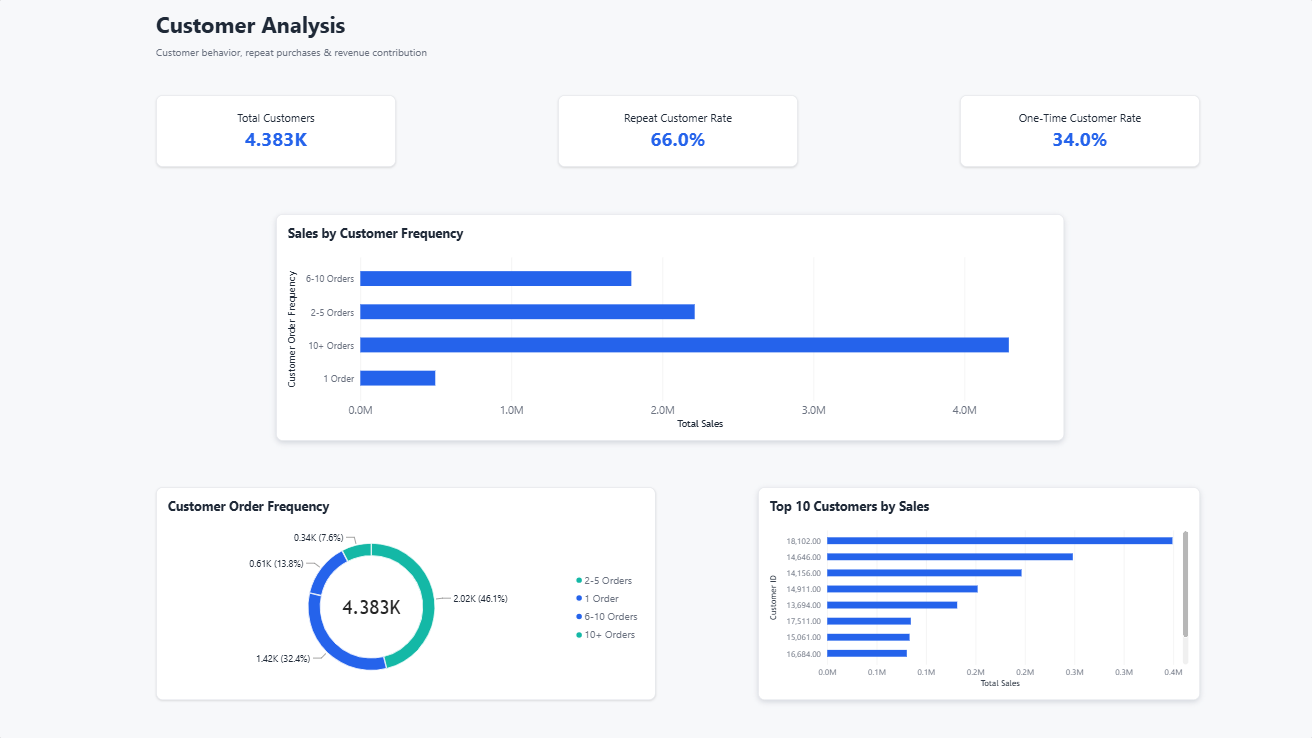

The page's visual inventory and layout, read from the dashboard file:
{"tool":"powerbi","page":{"name":"Customer Analysis","canvas":[1920,1080],"ordinal":1},"visuals":[{"type":"cardVisual","fields":{"Data":["online_retail_cleaned.Total Customers"]},"box":[230.5,140.1,350,105],"z":0},{"type":"cardVisual","fields":{"Data":["online_retail_cleaned.Repeat Customer Rate"]},"box":[817,140.1,350,105],"z":1000},{"type":"cardVisual","fields":{"Data":["online_retail_cleaned.One-Time Customer Rate"]},"box":[1403.5,140.1,350,105],"z":2000},{"type":"clusteredBarChart","title":"Sales by Customer Frequency","fields":{"Category":["online_retail_cleaned.Customer Frequency"],"Y":["online_retail_cleaned.Total Sales"]},"box":[405.6,313.7,1149.7,331.2],"z":3000},{"type":"donutChart","title":"Customer Order Frequency","fields":{"Category":["online_retail_cleaned.Customer Frequency"],"Y":["Count(online_retail_cleaned.Customer_ID)"]},"box":[230.5,712,729.5,310.8],"z":4000},{"type":"clusteredBarChart","title":"Top 10 Customers by Sales","fields":{"Category":["online_retail_cleaned.Customer_ID"],"Y":["online_retail_cleaned.Total Sales"]},"box":[1108.8,712,644.9,310.8],"z":5000},{"type":"textbox","box":[230,15.1,397.9,51.4],"z":7000},{"type":"textbox","box":[230,67.1,397.1,27.1],"z":8000}]}

Visuals, with their boxes in screenshot pixels (x1, y1, x2, y2), scaled from the page's 1920x1080 canvas onto the 1312x738 screenshot:
cardVisual - online_retail_cleaned.Total Customers: (158, 96, 397, 167)
cardVisual - online_retail_cleaned.Repeat Customer Rate: (558, 96, 797, 167)
cardVisual - online_retail_cleaned.One-Time Customer Rate: (959, 96, 1198, 167)
"Sales by Customer Frequency" clusteredBarChart: (277, 214, 1063, 441)
"Customer Order Frequency" donutChart: (158, 487, 656, 699)
"Top 10 Customers by Sales" clusteredBarChart: (758, 487, 1198, 699)
textbox: (157, 10, 429, 45)
textbox: (157, 46, 429, 64)
